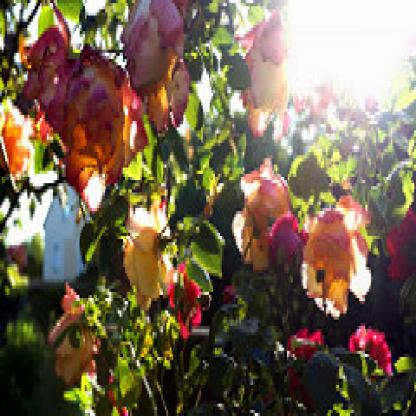Rose-Mawar: (15, 38, 124, 228), (232, 178, 377, 318)
